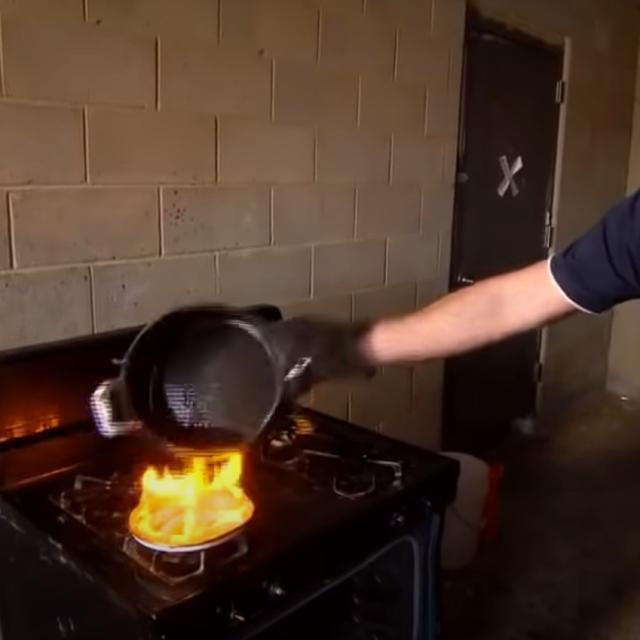Fire: (132, 448, 259, 546)
